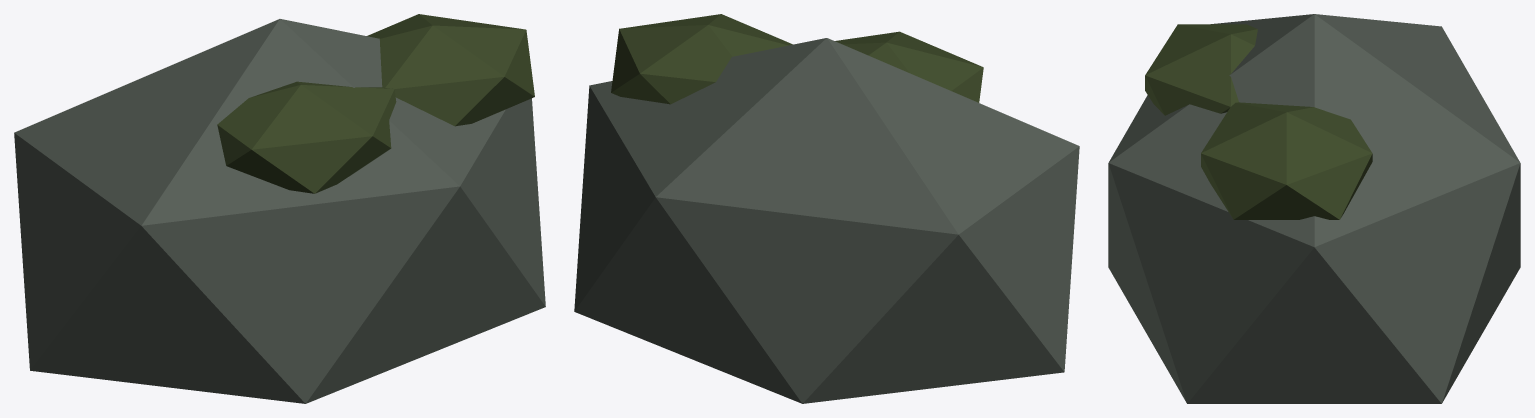
The model's file is SM_ENV_Rock_01_Small.glb.
The picture shows the model from 3 angles, left to right: view 1: azimuth 30°, elevation 25°; view 2: azimuth 150°, elevation 25°; view 3: azimuth 270°, elevation 25°; orthographic projection. The views are drawn at different scales.
Parts seen in each view (by area): view 1: SM_ENV_Rock_01_Small; view 2: SM_ENV_Rock_01_Small; view 3: SM_ENV_Rock_01_Small.
Boxes of the visible parts, x1,y1,x2,y2 form: SM_ENV_Rock_01_Small: (14, 14, 545, 403); SM_ENV_Rock_01_Small: (574, 14, 1079, 403); SM_ENV_Rock_01_Small: (1108, 14, 1520, 403).
Bounding box in the file's own units: 0.8586 × 0.56 × 0.6125.
